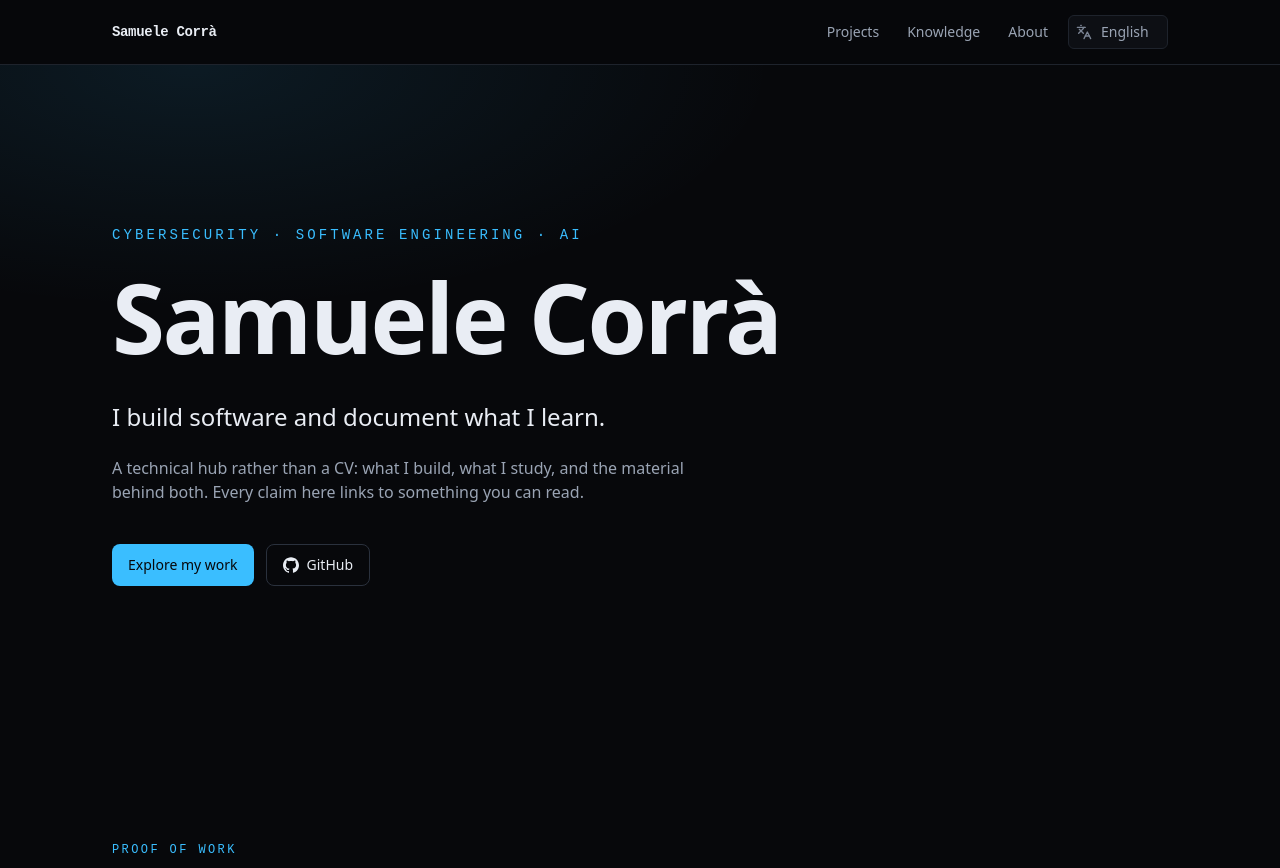
language switching › translates the page and updates <html lang> when the locale changes
The width and height of the screenshot is (1280, 868).
Expected: the link "Projects" is shown, [827, 22, 879, 41]
Select "Italiano" in the dropdown named "language". click: (1118, 32)
box: [1068, 15, 1168, 49]
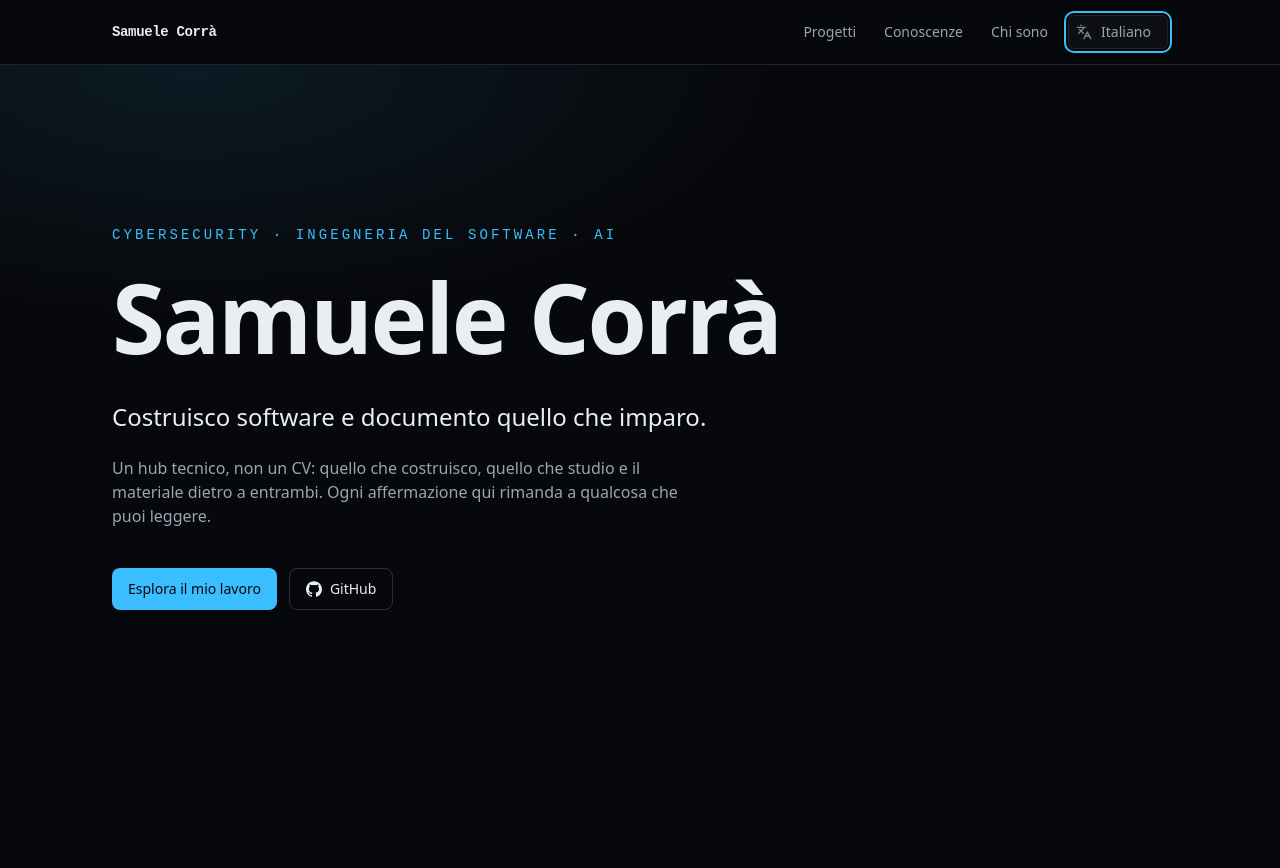
Result: the link "Progetti" is shown at [803, 22, 856, 41]
Result: the link "Projects" is gone
